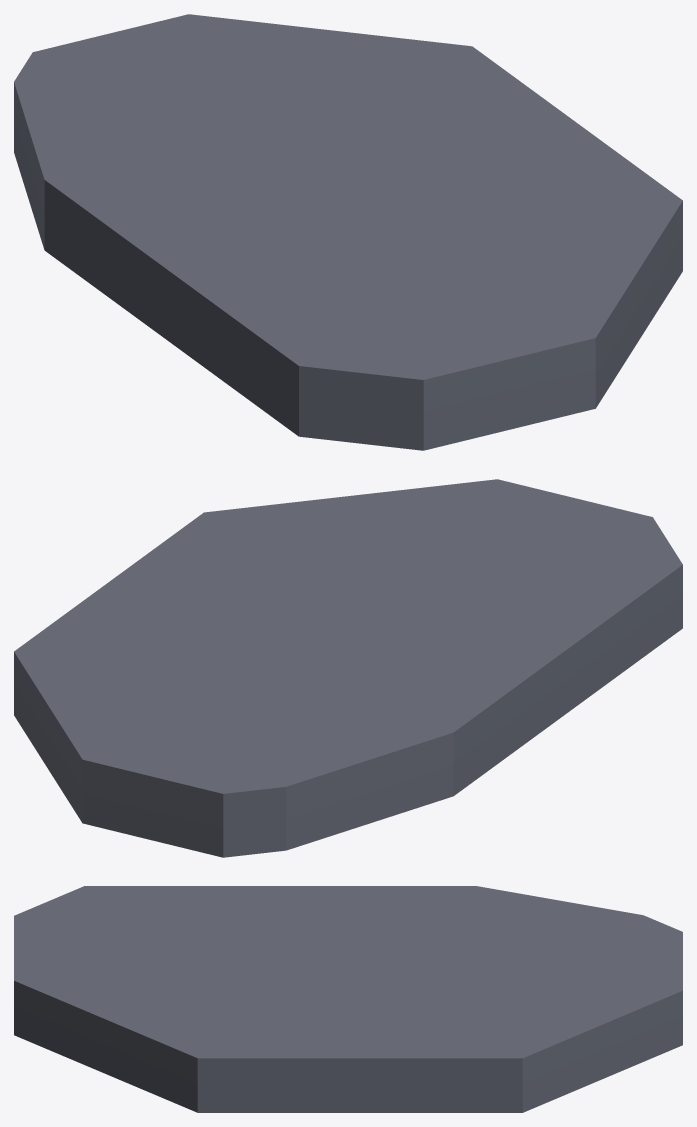
File: Tile_05.fbx
3 renders of one model, top to bottom at view 1: azimuth 30°, elevation 25°; view 2: azimuth 150°, elevation 25°; view 3: azimuth 270°, elevation 25°, orthographic. The views are drawn at different scales.
Parts seen in each view (by area): view 1: Tile_05; view 2: Tile_05; view 3: Tile_05.
Boxes of the visible parts, bbox=[...] form: Tile_05: bbox=[14, 14, 682, 450]; Tile_05: bbox=[14, 479, 682, 857]; Tile_05: bbox=[14, 886, 682, 1112].
Bounding box in the file's own units: 0.3495 × 0.0516 × 0.5736.
